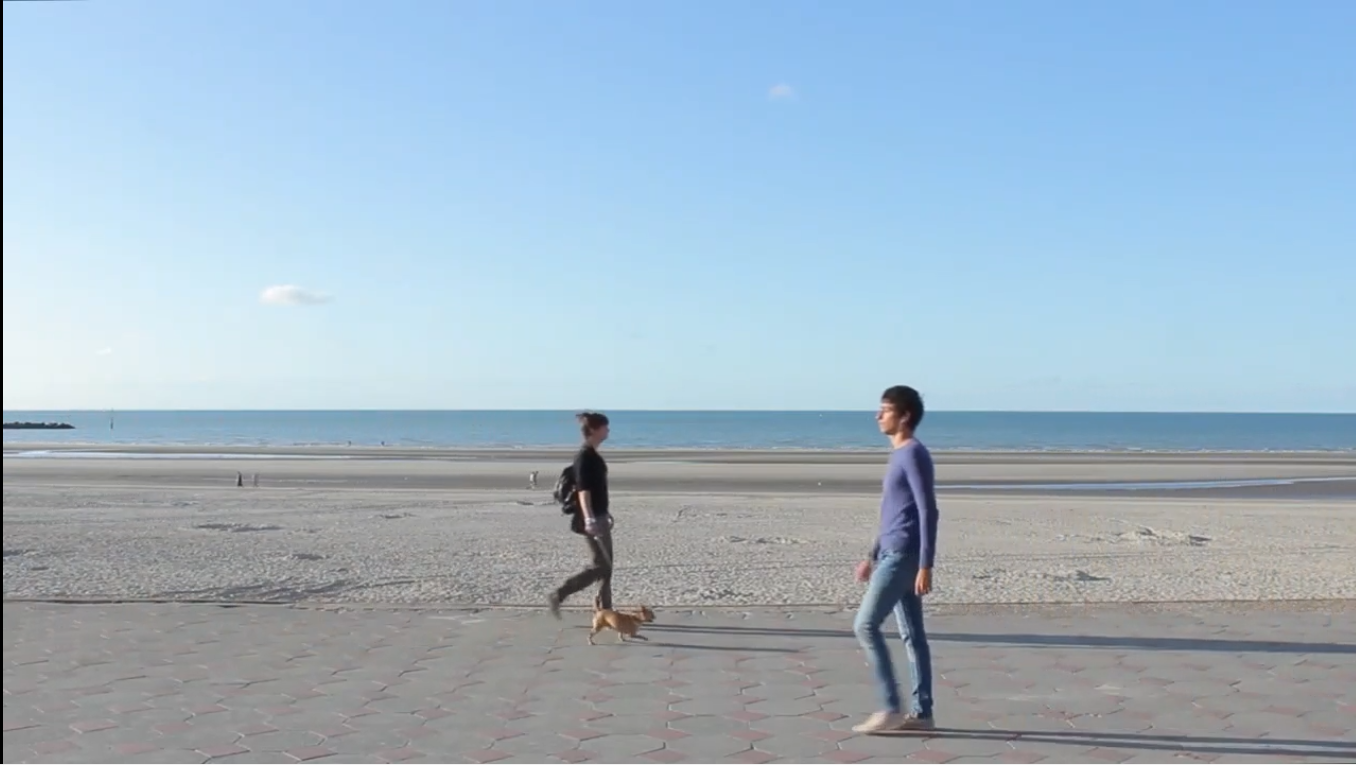padestrian: (831, 381, 967, 740)
